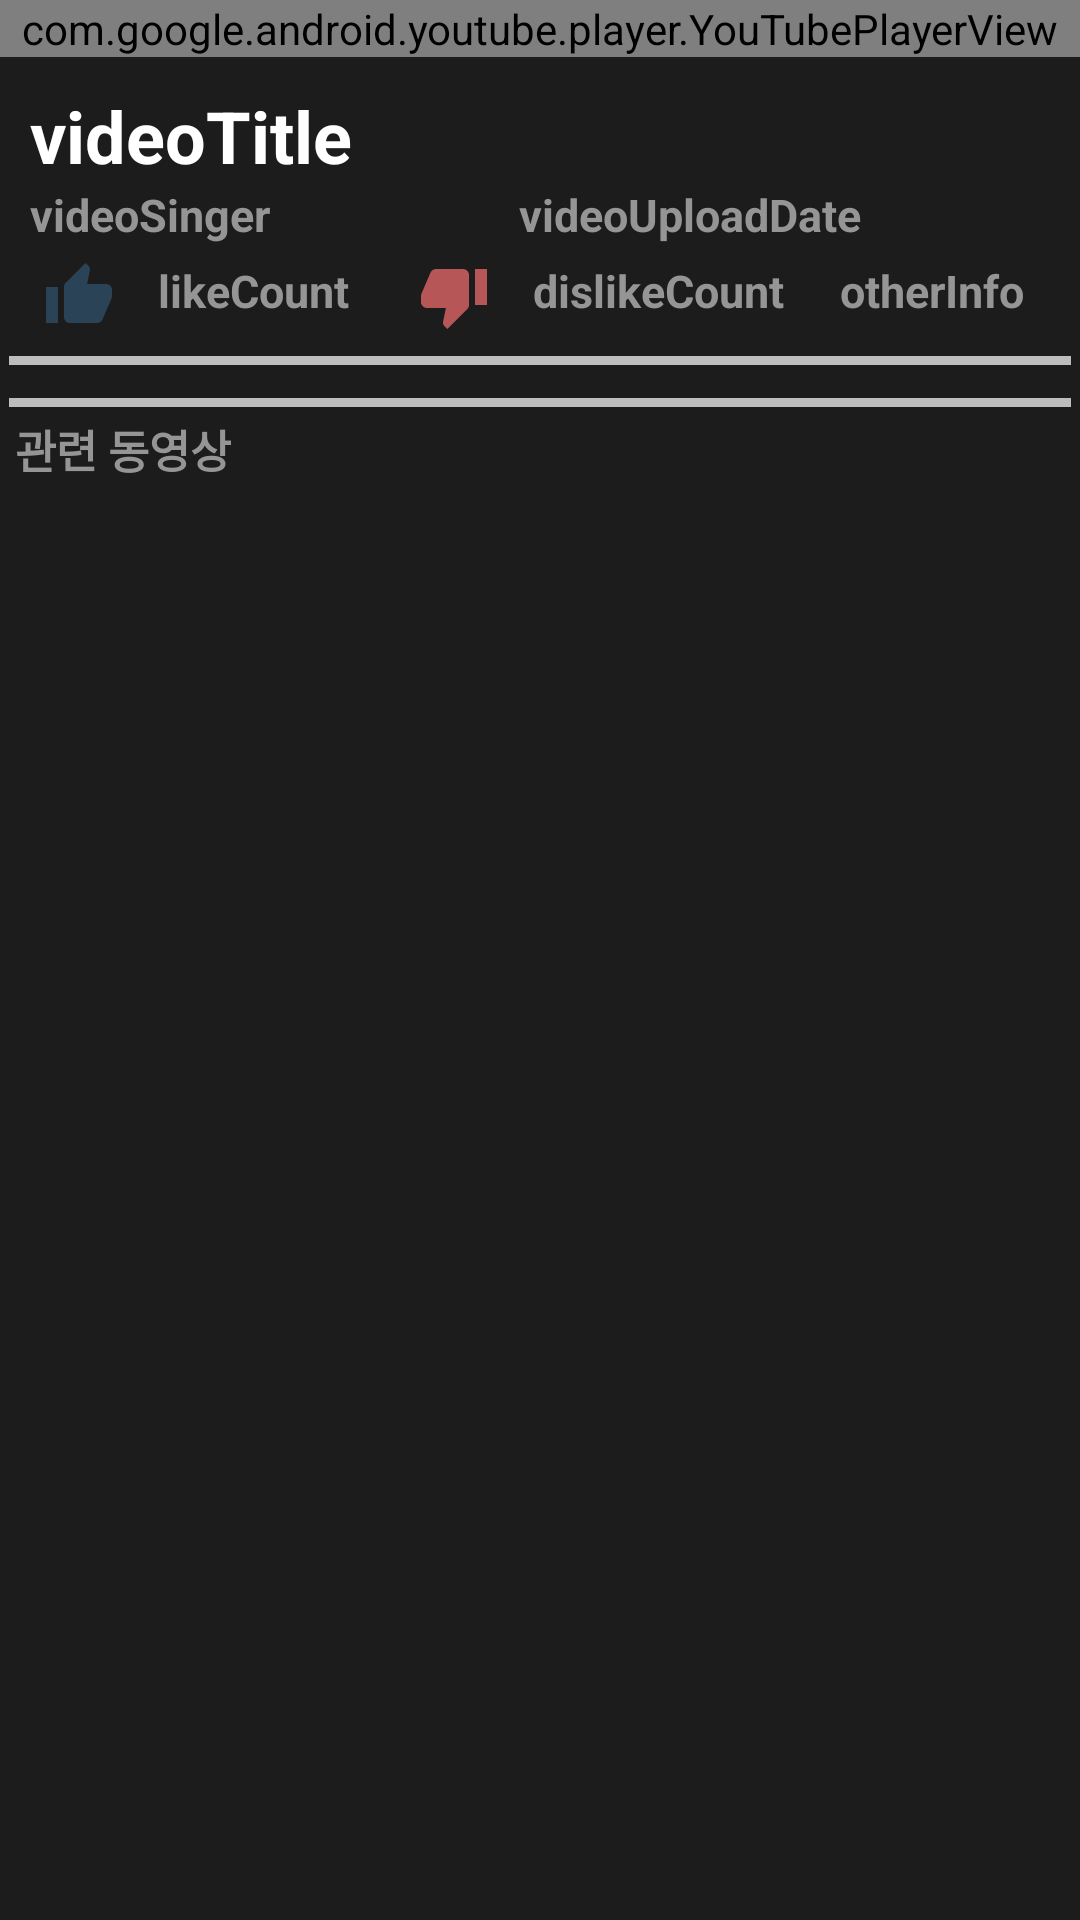

Icon bounding boxes for this 1080 × 1920 phone screenshot, format Rect(x1, y1, x2, y2):
thumb down: Rect(421, 269, 487, 329)
thumb up: Rect(46, 263, 112, 323)
